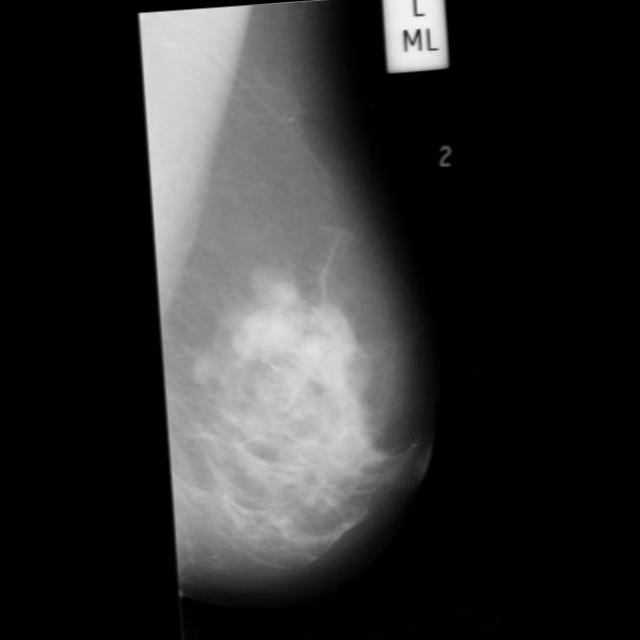MISC: (230, 292, 310, 372)
